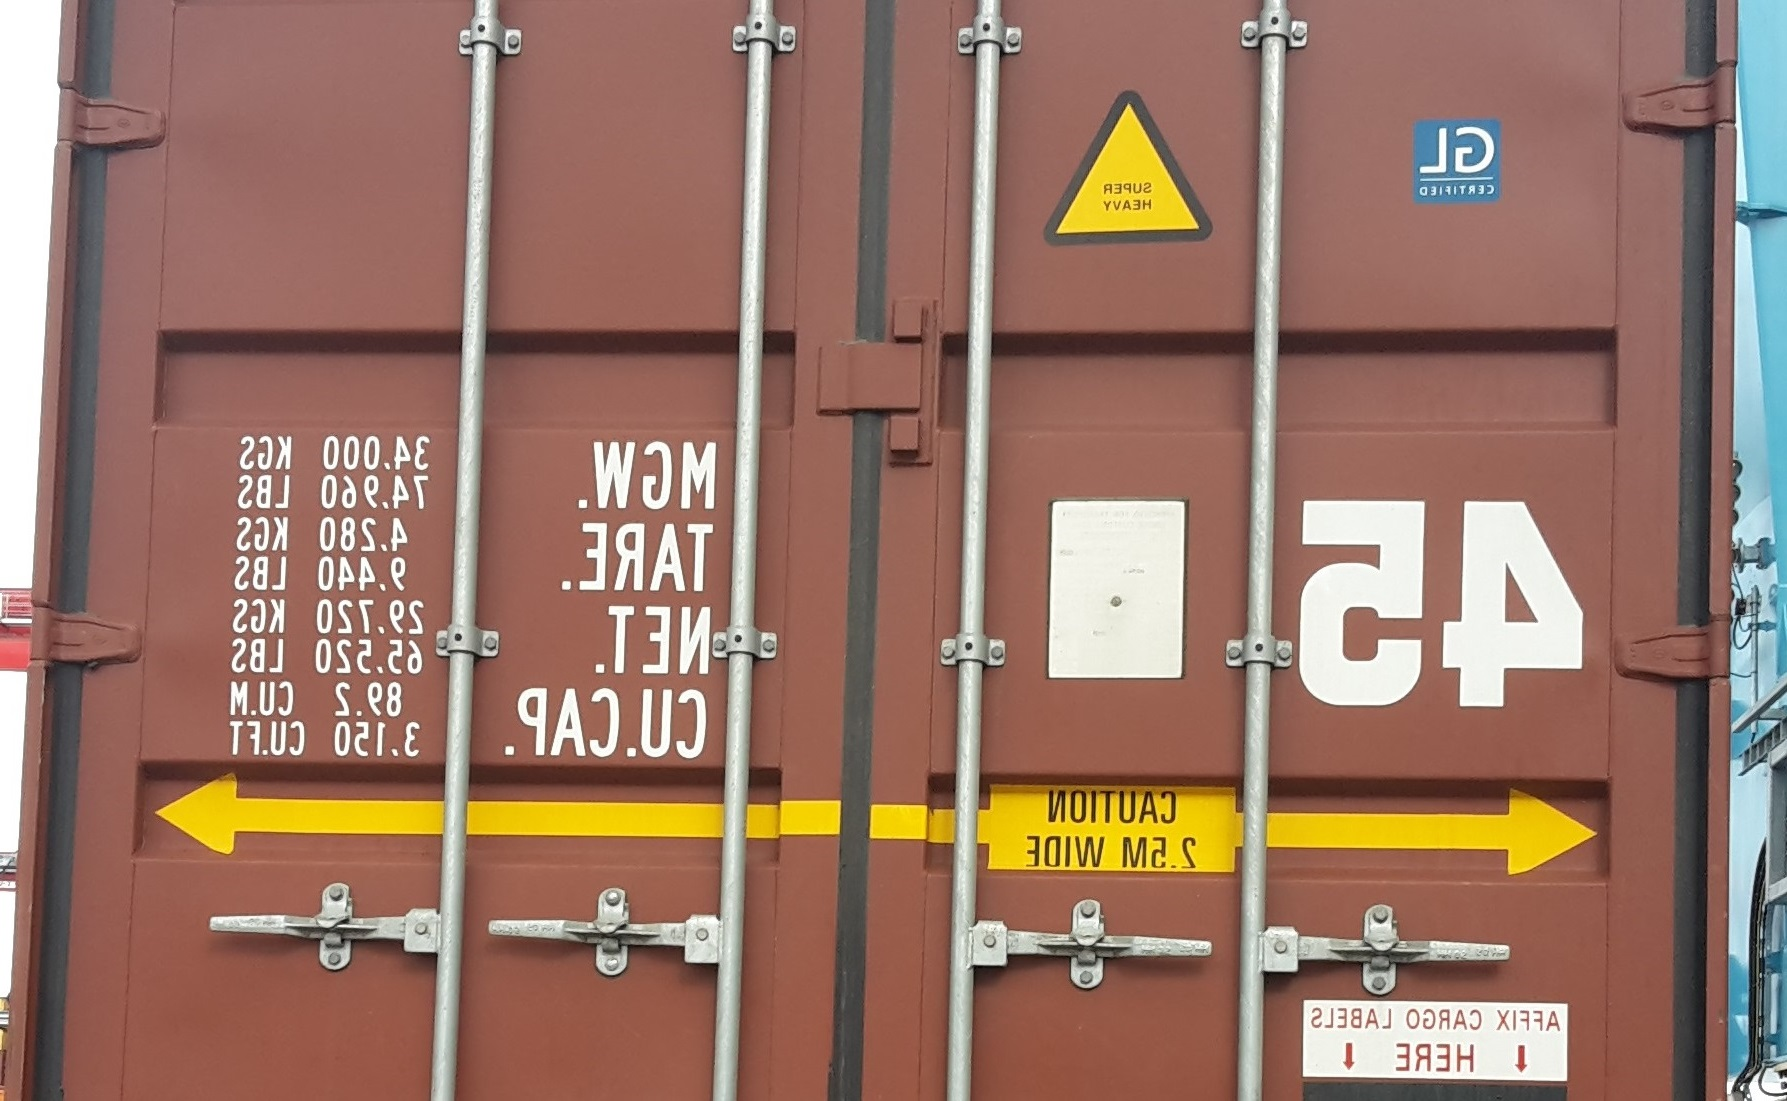container_door: (27, 8, 1732, 1101)
